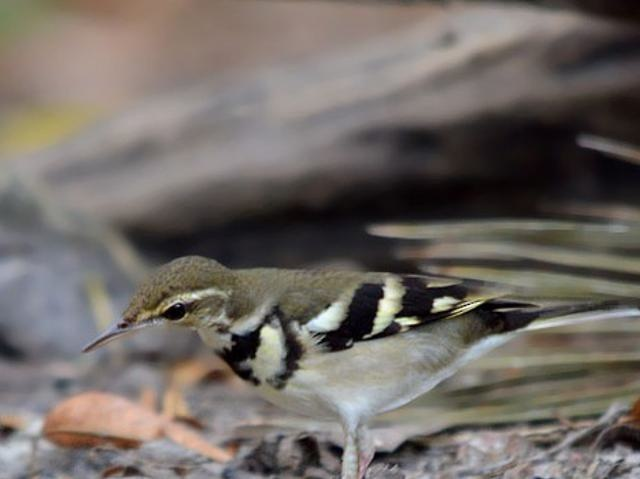wagtail: (122, 236, 520, 479)
